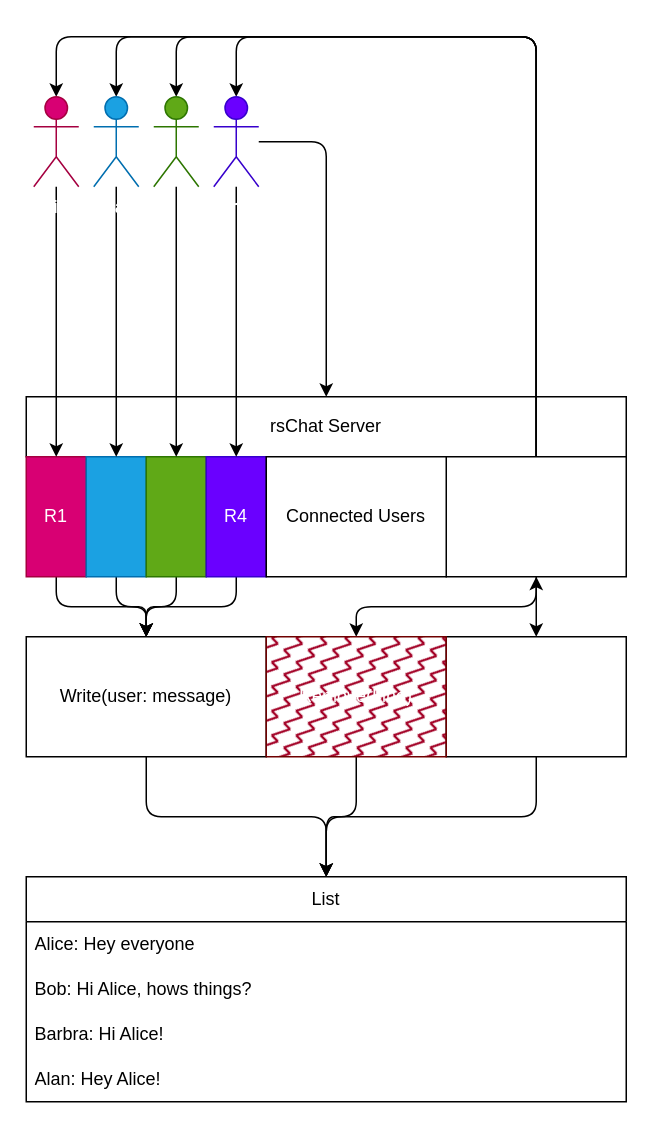
Some shapes in this 653 by 1128 pixel diagram are drawn without their labels. Here are the shapes that lost their labels. From the top down, the centre of each, then its label:
At pixel 175 141: "Bob".
At pixel 115 516: "R2".
At pixel 175 516: "R3".
At pixel 535 516: "Sender".
At pixel 535 696: "Read(All)".
